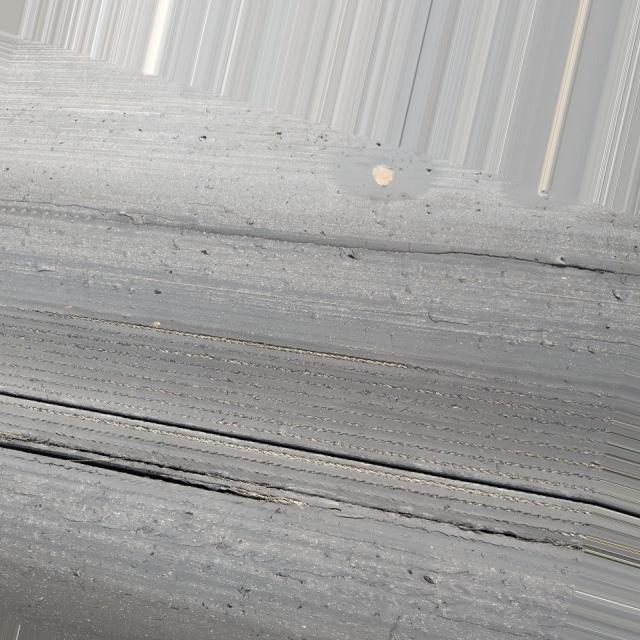Tear: (9, 188, 598, 285)
impact damage: (10, 300, 590, 490)
